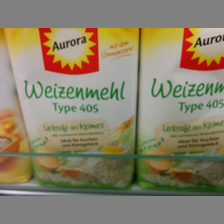flour: (5, 29, 136, 192), (138, 29, 224, 189)
